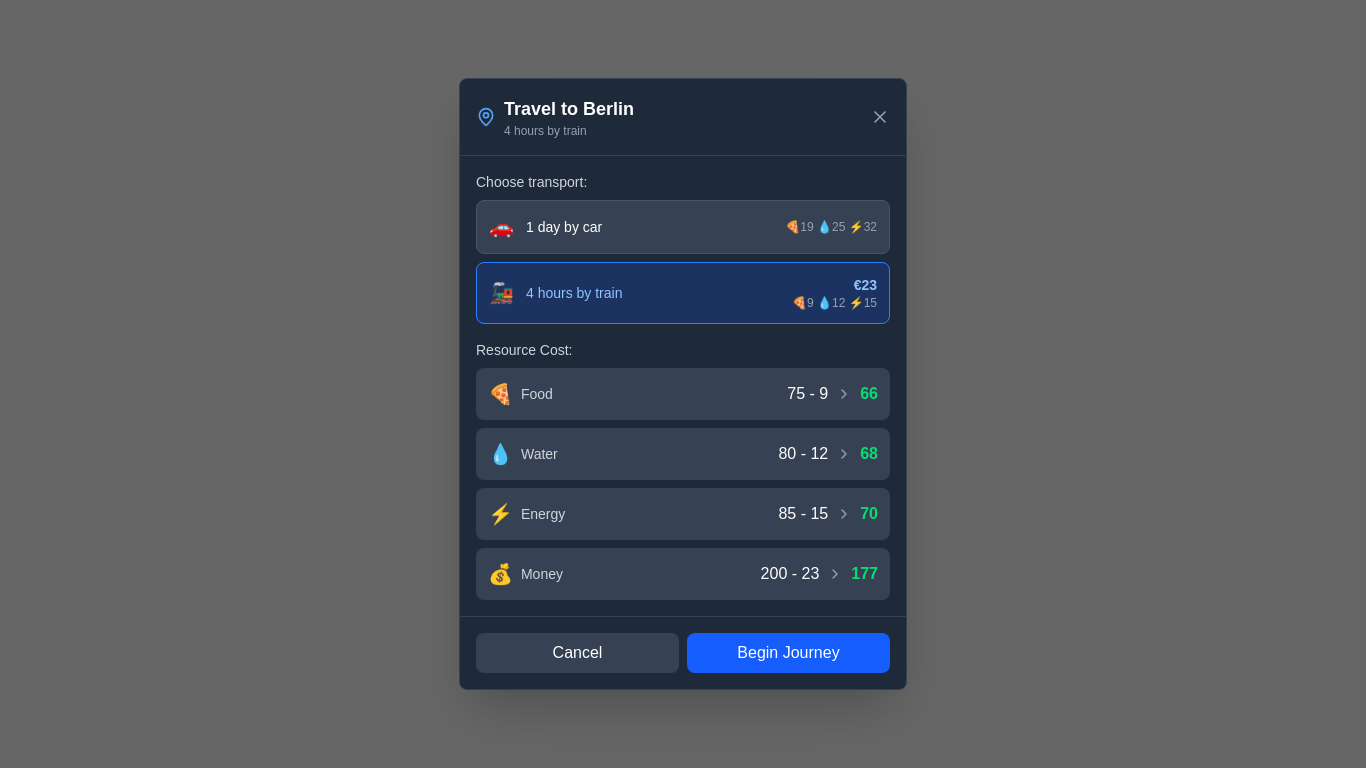
Test: TravelModal › should update cost breakdown when a different transport is selected
Note: Click the car option button (by finding its label text in the selector)
Click the text "1 day by car" at (564, 227), box 526,217 -> 602,237
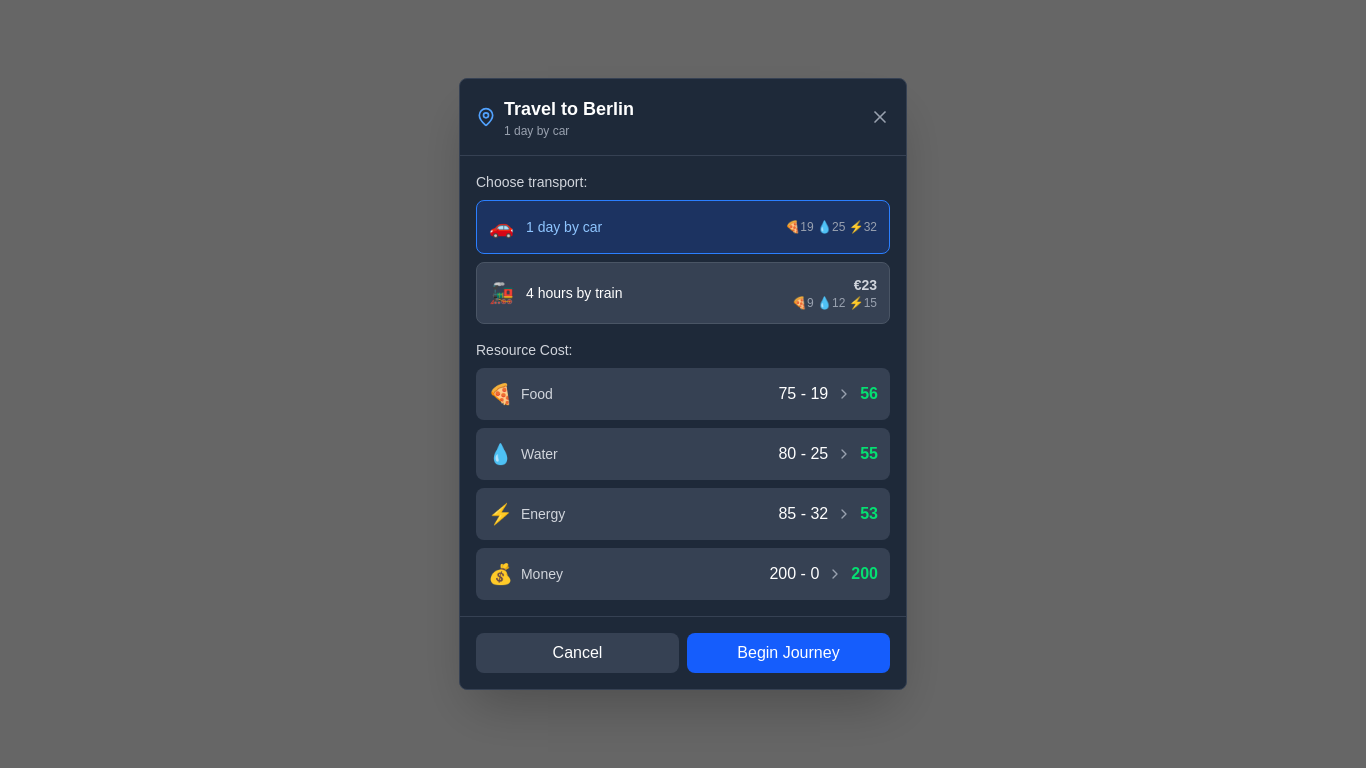
expect the text "75 - 19" is shown: met, box 778,382 -> 828,406
